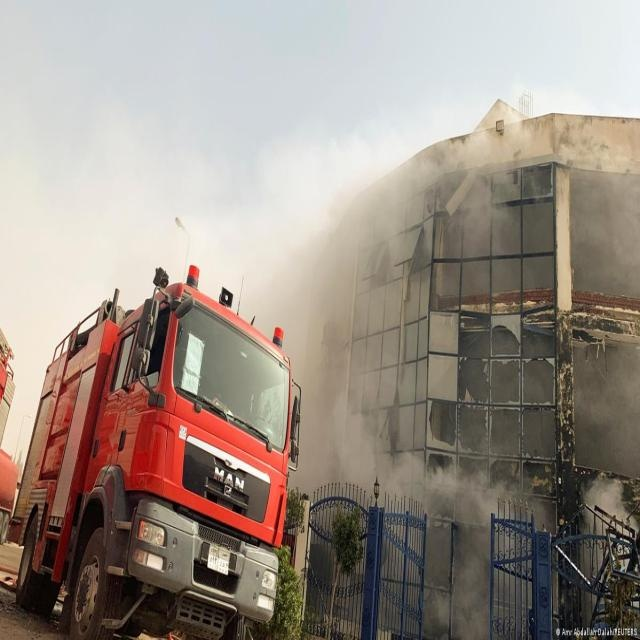Fire-truck: (7, 262, 302, 638)
